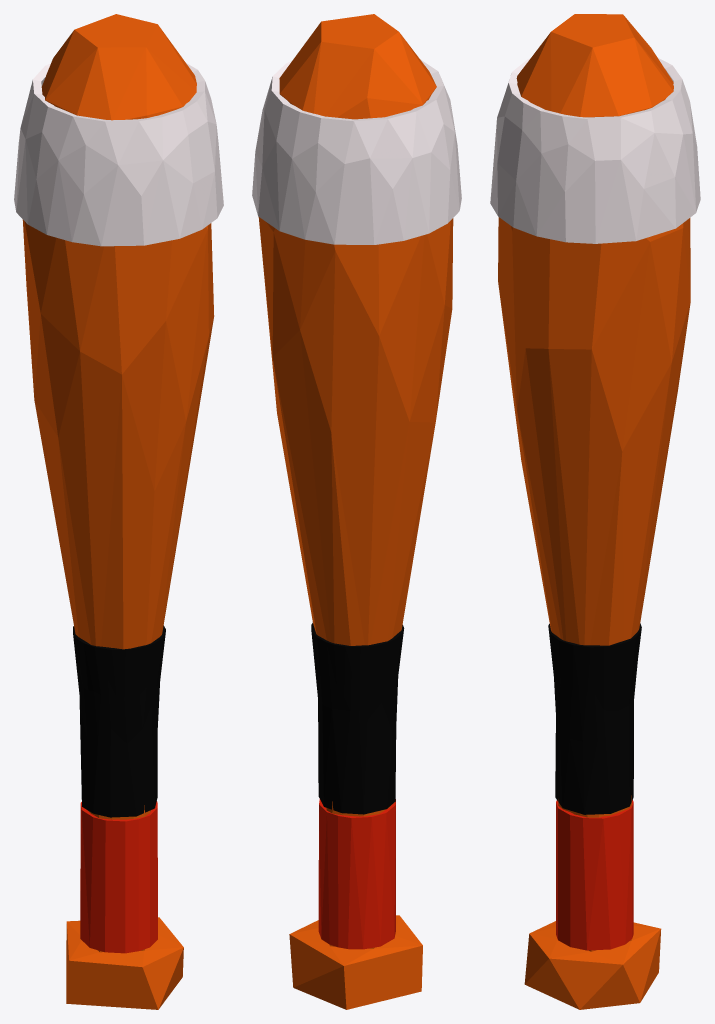
Rendered from baseball_bat.fbx.
The picture shows the model from 3 angles, left to right: view 1: azimuth 30°, elevation 25°; view 2: azimuth 150°, elevation 25°; view 3: azimuth 270°, elevation 25°; orthographic projection.
Visible parts, largest first — view 1: low poly baseball bat; view 2: low poly baseball bat; view 3: low poly baseball bat.
Part boxes in pixels (<box>): low poly baseball bat: <box>14,14,223,1009</box>; low poly baseball bat: <box>252,14,461,1009</box>; low poly baseball bat: <box>490,14,700,1009</box>.
Bounding box in the file's own units: 30 × 150 × 30.
